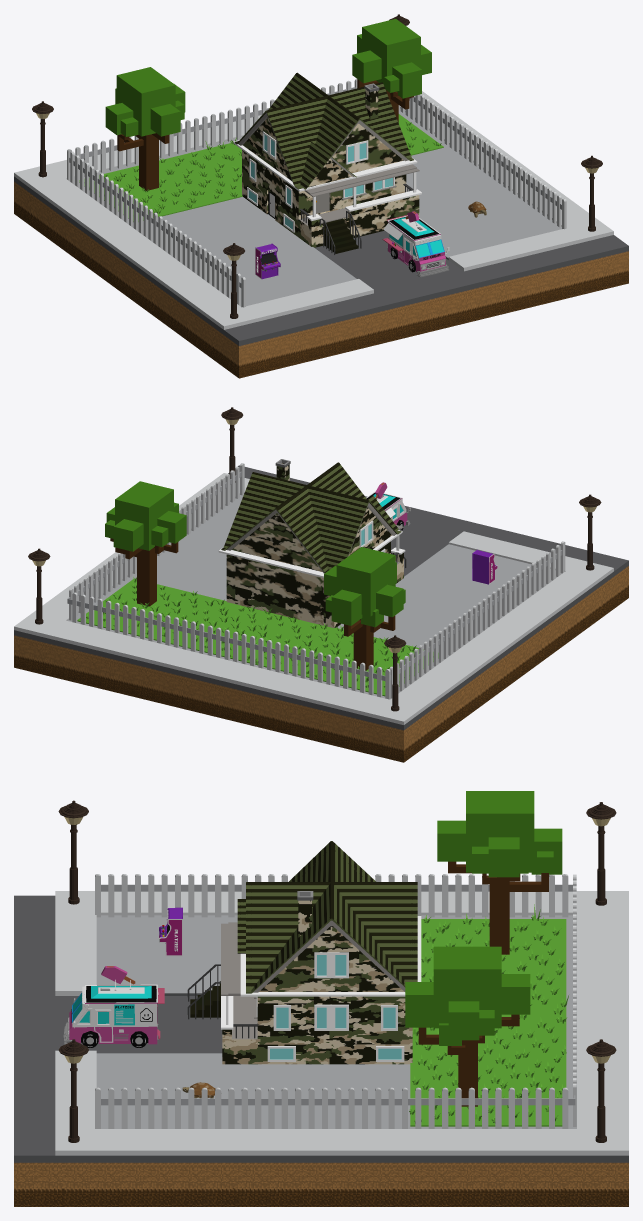
3 renders of one model, top to bottom at view 1: azimuth 30°, elevation 25°; view 2: azimuth 150°, elevation 25°; view 3: azimuth 270°, elevation 25°, orthographic. The views are drawn at different scales.
Parts seen in each view (by area): view 1: Cube.004, Cube.001, VEHICLES_ICE_CREAM_TRUCK, OBJRANDOM_ARCADE; view 2: Cube.004, Cube.001, VEHICLES_ICE_CREAM_TRUCK, OBJRANDOM_ARCADE; view 3: Cube.004, Cube.001, VEHICLES_ICE_CREAM_TRUCK, OBJRANDOM_ARCADE.
Part boxes in pixels (x1,y1,x2,y2): Cube.004: [14, 14, 628, 378]; Cube.001: [233, 72, 421, 254]; VEHICLES_ICE_CREAM_TRUCK: [382, 211, 449, 277]; OBJRANDOM_ARCADE: [255, 243, 280, 279]; Cube.004: [14, 407, 628, 762]; Cube.001: [218, 459, 406, 627]; VEHICLES_ICE_CREAM_TRUCK: [366, 482, 410, 530]; OBJRANDOM_ARCADE: [472, 549, 497, 584]; Cube.004: [14, 791, 628, 1206]; Cube.001: [187, 841, 421, 1064]; VEHICLES_ICE_CREAM_TRUCK: [63, 966, 164, 1047]; OBJRANDOM_ARCADE: [159, 907, 182, 956].
Size of the model in its own units: 4000 by 1607 by 4000.
48 materials, 5 textured.
